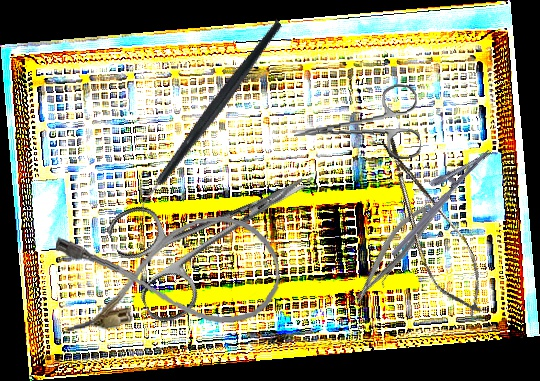Cannula: (54, 211, 284, 338)
Chopper: (91, 18, 332, 224)
Iris Scissors: (102, 132, 334, 330), (289, 82, 423, 169)
Micro Scissor: (361, 124, 501, 329)
Needle Holder: (376, 134, 493, 258), (341, 196, 441, 310)
Spatula Surgical: (373, 169, 471, 290)
